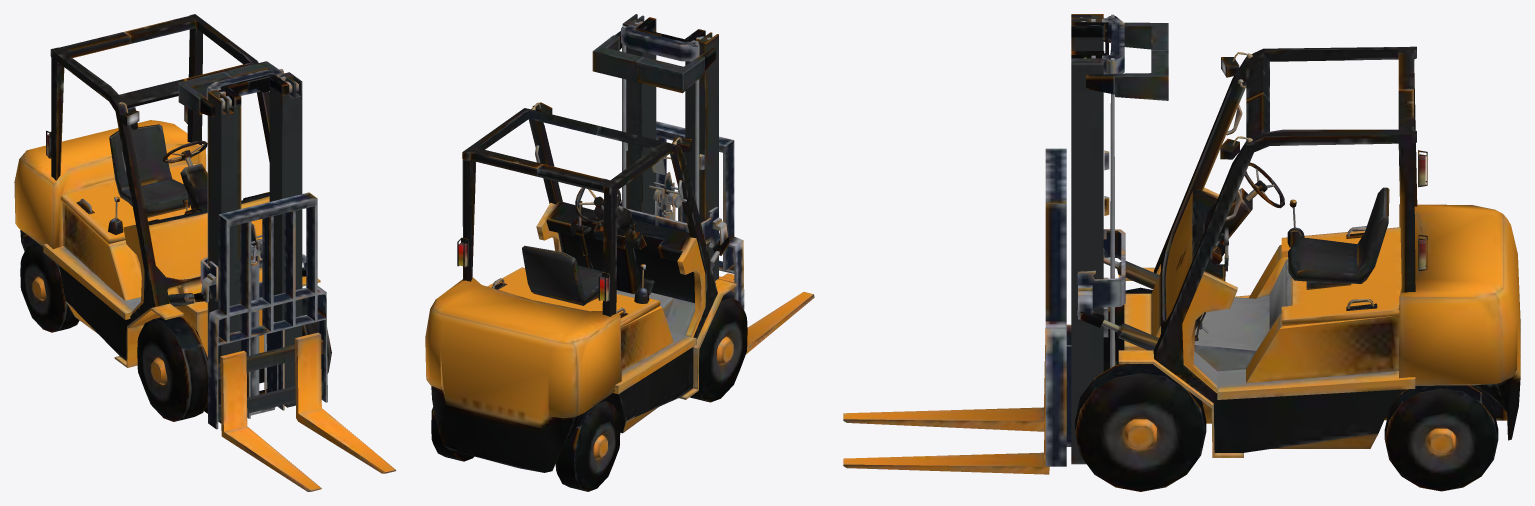
The model's file is fork.glb.
3 renders of one model, left to right at view 1: azimuth 30°, elevation 25°; view 2: azimuth 150°, elevation 25°; view 3: azimuth 270°, elevation 25°, orthographic. The views are drawn at different scales.
Parts seen in each view (by area): view 1: ForkLift_ForkLift_01_0; view 2: ForkLift_ForkLift_01_0; view 3: ForkLift_ForkLift_01_0.
Part boxes in pixels (box(x1,y1,x2,y2)): ForkLift_ForkLift_01_0: box(14, 14, 396, 491); ForkLift_ForkLift_01_0: box(425, 14, 814, 491); ForkLift_ForkLift_01_0: box(843, 14, 1520, 491).
Bounding box in the file's own units: 1.31 × 2.58 × 3.85.
1 material, 1 textured.
